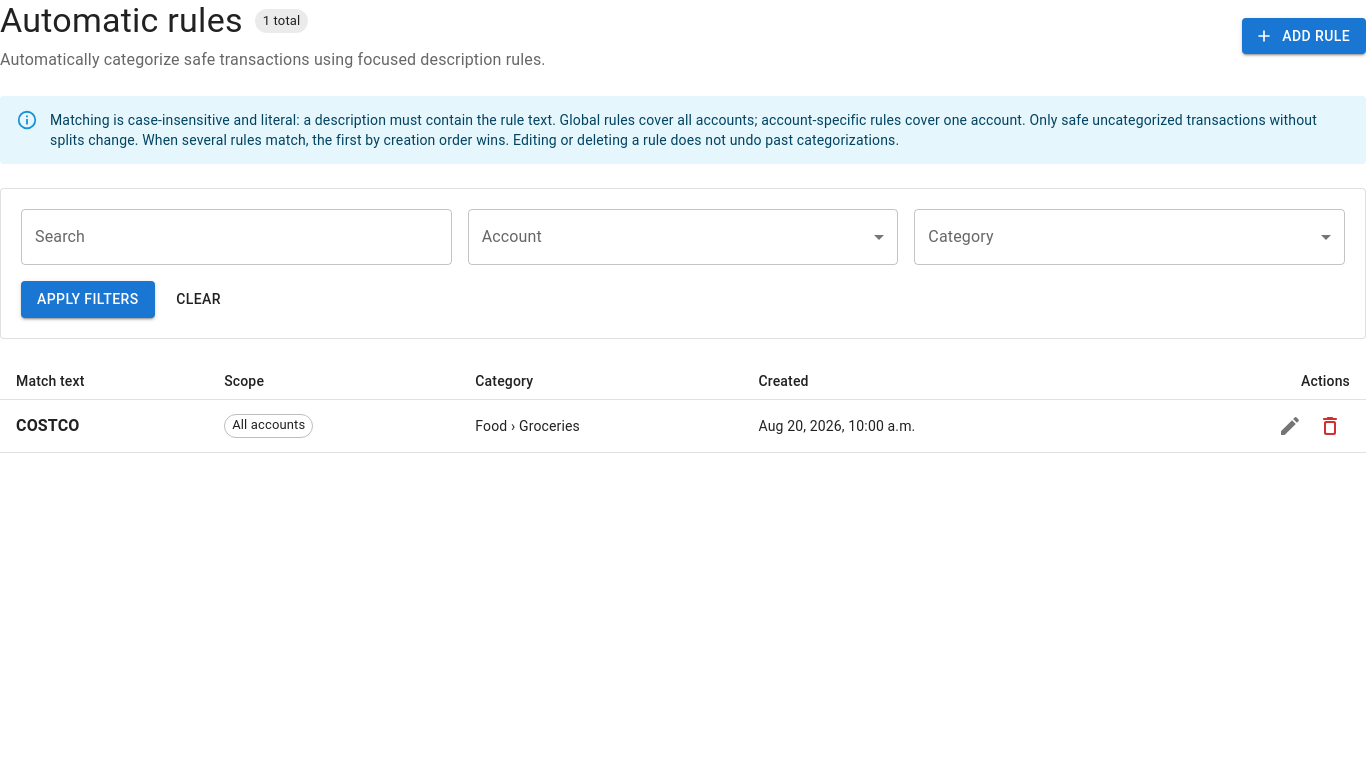
Test: rules view › renders nested category paths in the rule list and form selector
This screenshot has width=1366, height=768.
Expected: the text "Food › Groceries" is shown, [459, 399, 742, 452]
Click the button "Add rule" at (1304, 36), box [1242, 18, 1365, 54]
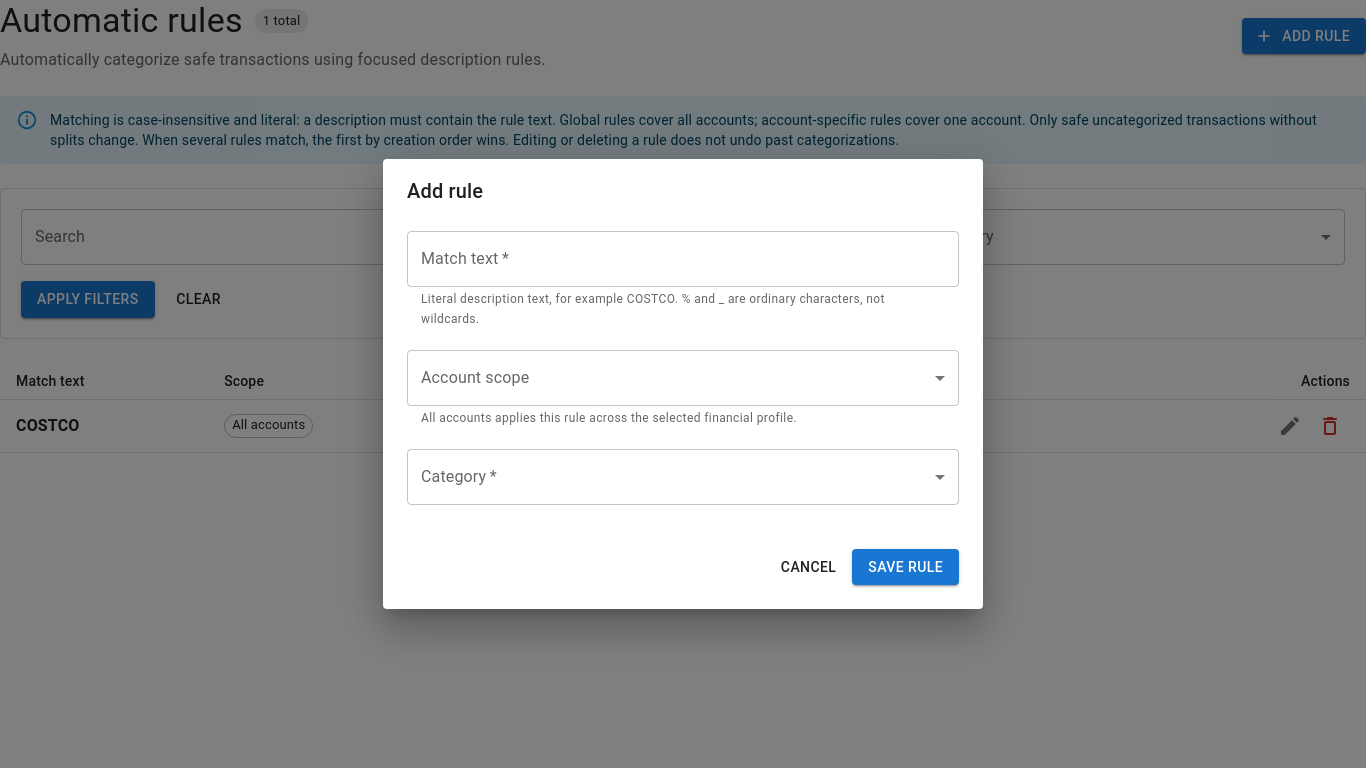
Press the mouse on the 2nd dropdown named "Category" at (683, 477), box [407, 449, 959, 505]
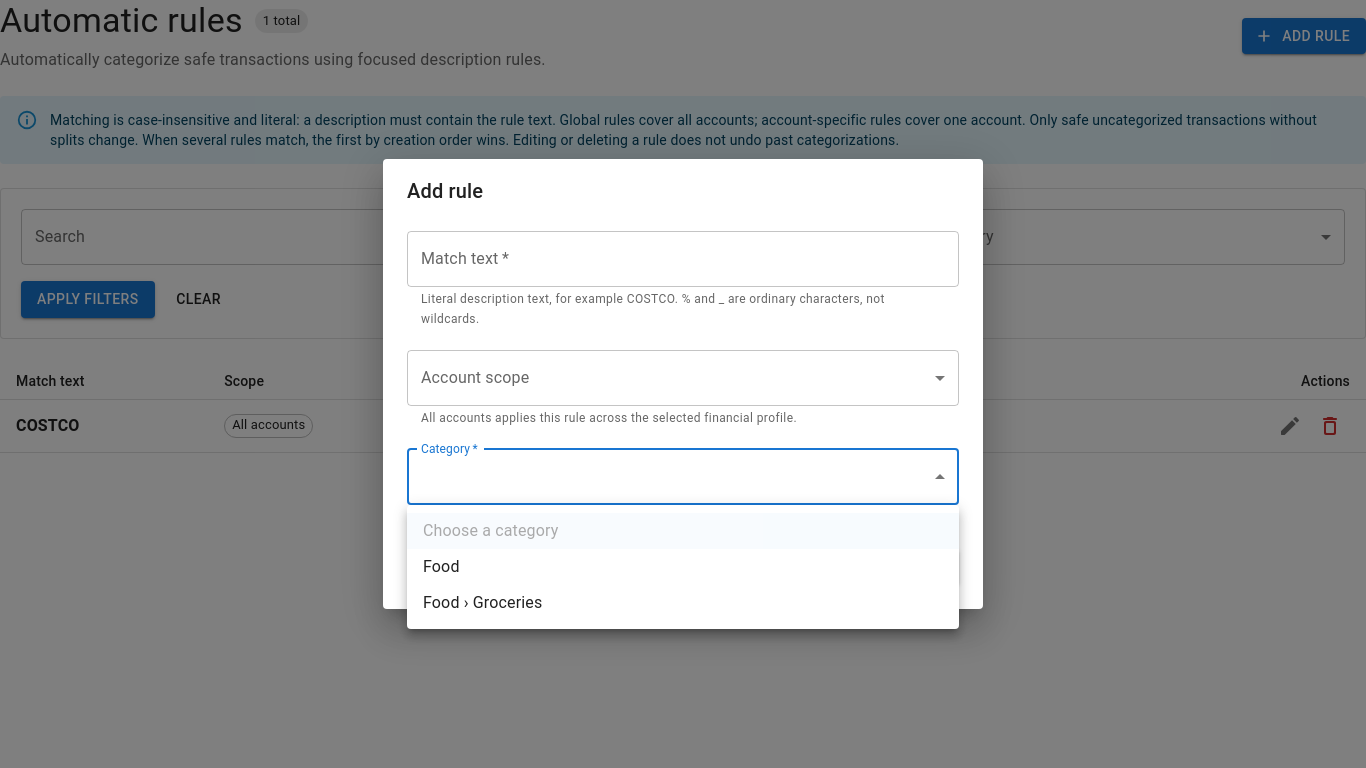
Expected: the option "Food › Groceries" is shown, [423, 593, 542, 612]
